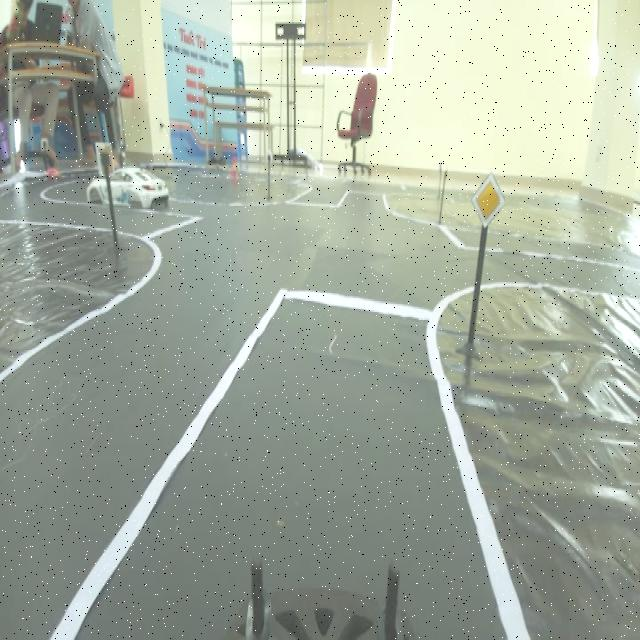priority: (464, 173, 510, 233)
